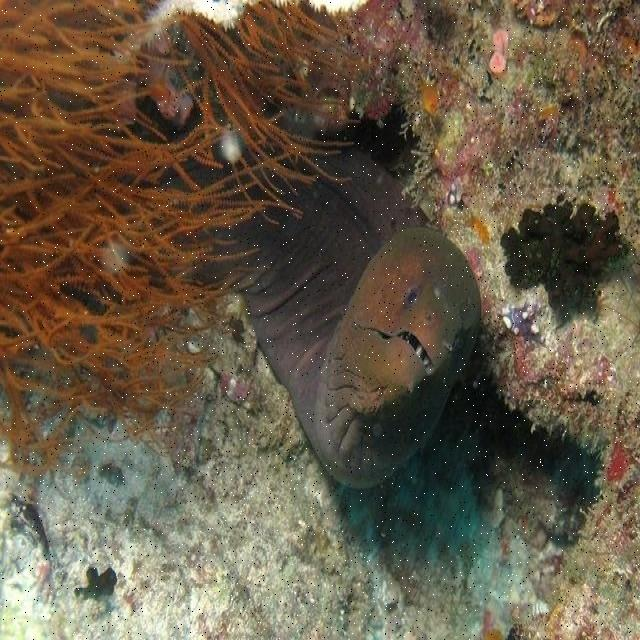aquatic plants: (0, 2, 360, 461), (501, 201, 620, 329)
fish: (97, 129, 482, 482)
reefs: (143, 0, 639, 639), (0, 299, 424, 639)
